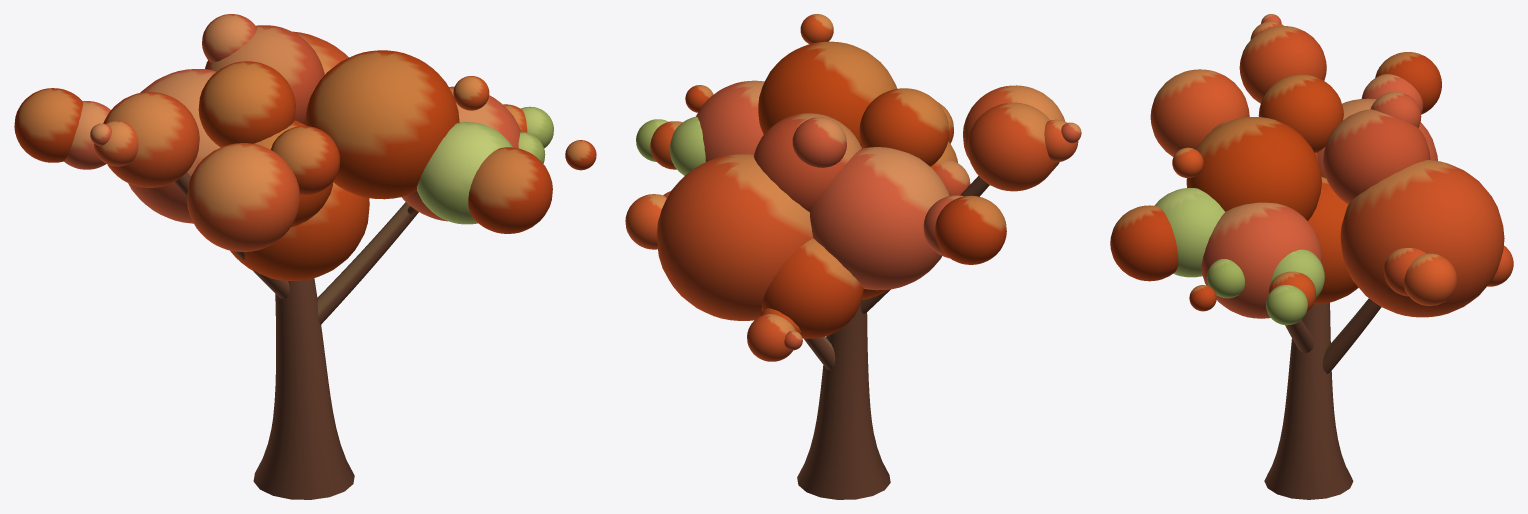
Rendered from canopy-tree-211.obj.
The picture shows the model from 3 angles, left to right: view 1: azimuth 30°, elevation 25°; view 2: azimuth 150°, elevation 25°; view 3: azimuth 270°, elevation 25°; orthographic projection. The views are drawn at different scales.
Parts seen in each view (by area): view 1: tree; view 2: tree; view 3: tree.
Boxes of the visible parts, x1=… form: tree: x1=14, y1=14, x2=596, y2=499; tree: x1=625, y1=14, x2=1081, y2=499; tree: x1=1110, y1=14, x2=1513, y2=499.
Size of the model in its own units: 372 by 329 by 318.
